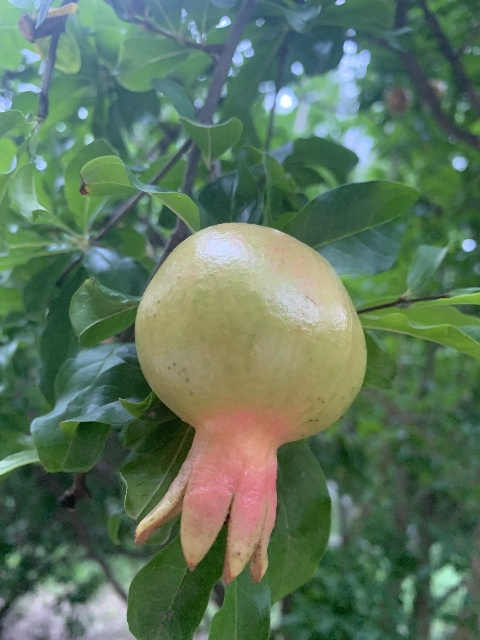mid-growth: (131, 221, 366, 589)
